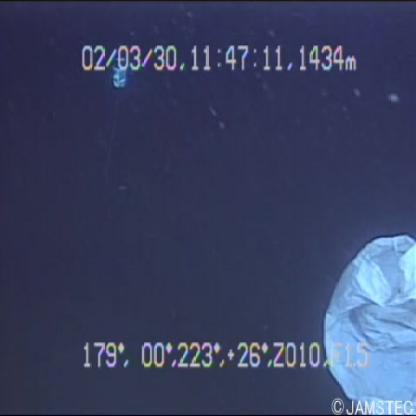Rác: (319, 217, 414, 416)
